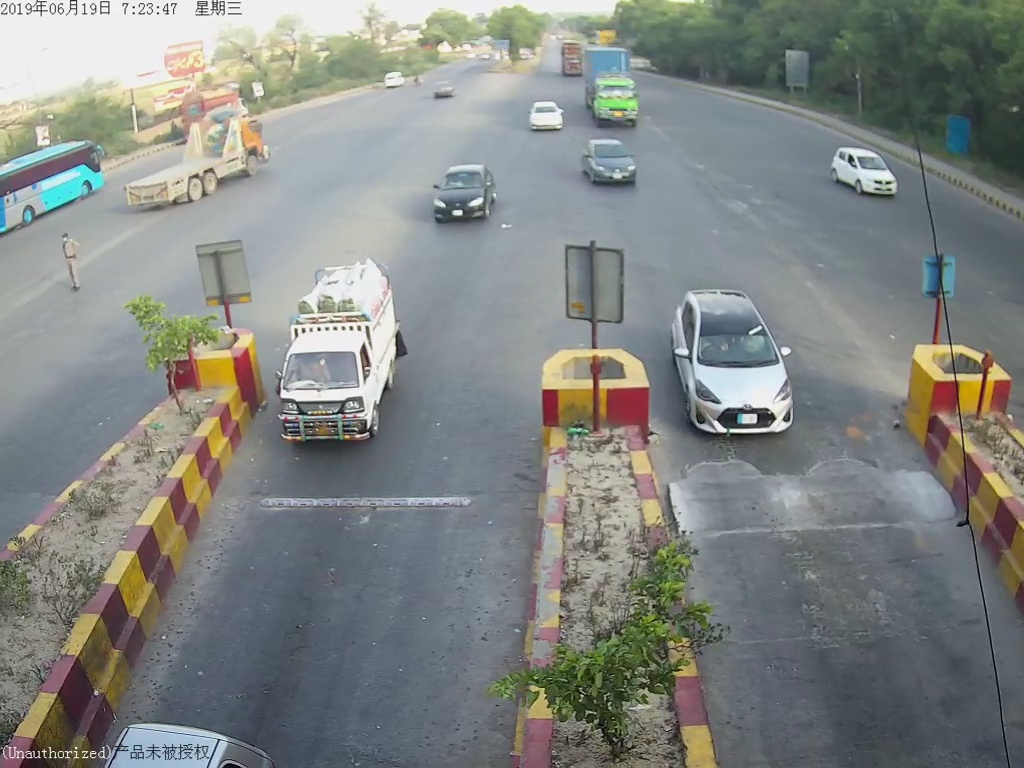Cat-1: (265, 266, 427, 457), (653, 278, 815, 457), (427, 160, 507, 234), (571, 133, 643, 191)
